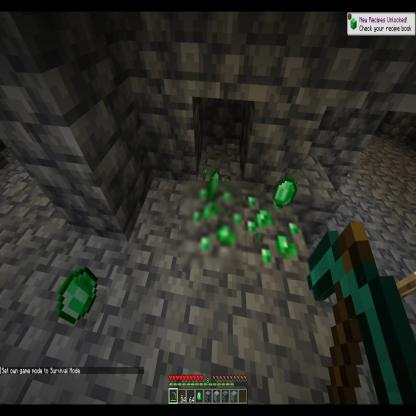emerald ore: (242, 186, 317, 280), (181, 182, 246, 270)
